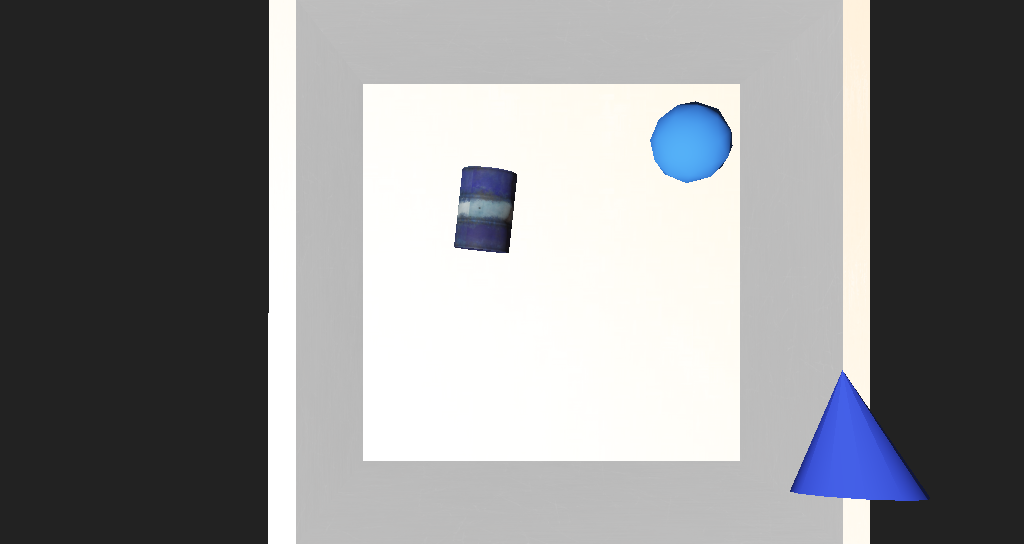cone: (424, 208, 478, 260)
cylinder: (643, 305, 785, 401)
sphere: (579, 172, 647, 220)
